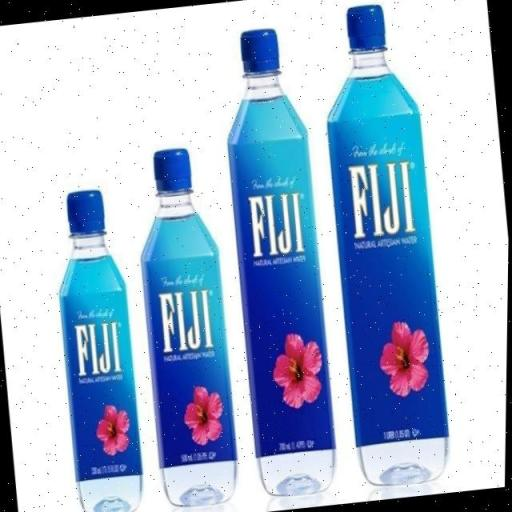plastic: (306, 0, 464, 494), (205, 17, 353, 509), (124, 137, 251, 512), (42, 181, 156, 512)
